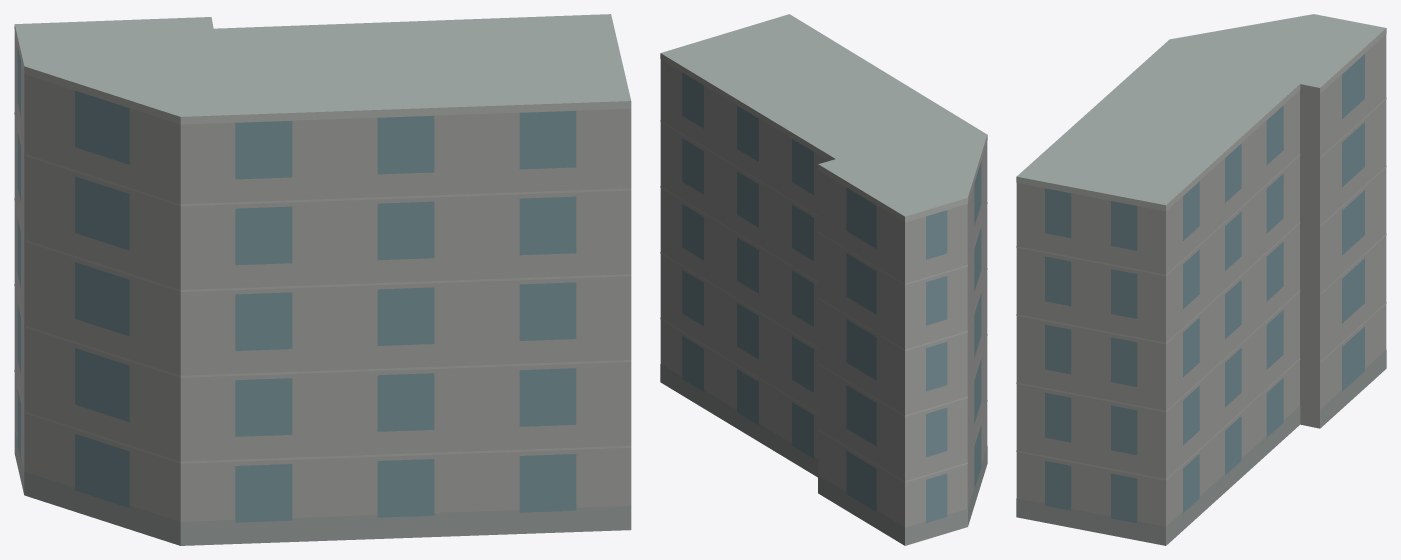
File: survey-upis-32716291.glb
3 renders of one model, left to right at view 1: azimuth 30°, elevation 25°; view 2: azimuth 150°, elevation 25°; view 3: azimuth 270°, elevation 25°, orthographic. The views are drawn at different scales.
Parts seen in each view (by area): view 1: survey-upis-32716291.tmp; view 2: survey-upis-32716291.tmp; view 3: survey-upis-32716291.tmp.
Part boxes in pixels (x1,y1,x2,y2): survey-upis-32716291.tmp: (14, 14, 631, 545); survey-upis-32716291.tmp: (660, 14, 987, 545); survey-upis-32716291.tmp: (1016, 14, 1386, 545).
Size of the model in its own units: 16.3 by 13.52 by 13.33.
